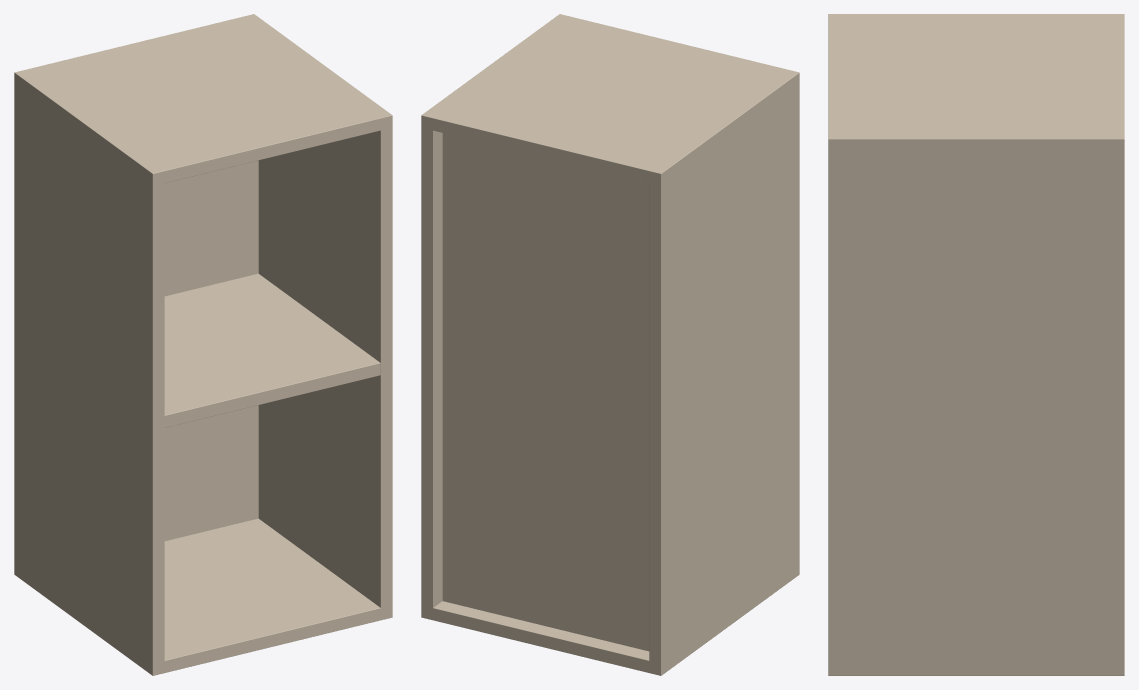
Rendered from MOD-1X2-S-B-AR.glb.
3 views of the same model, side by side, from view 1: azimuth 30°, elevation 25°; view 2: azimuth 150°, elevation 25°; view 3: azimuth 270°, elevation 25° (orthographic). The views are drawn at different scales.
Bounding box in the file's own units: 360 × 720 × 360.
